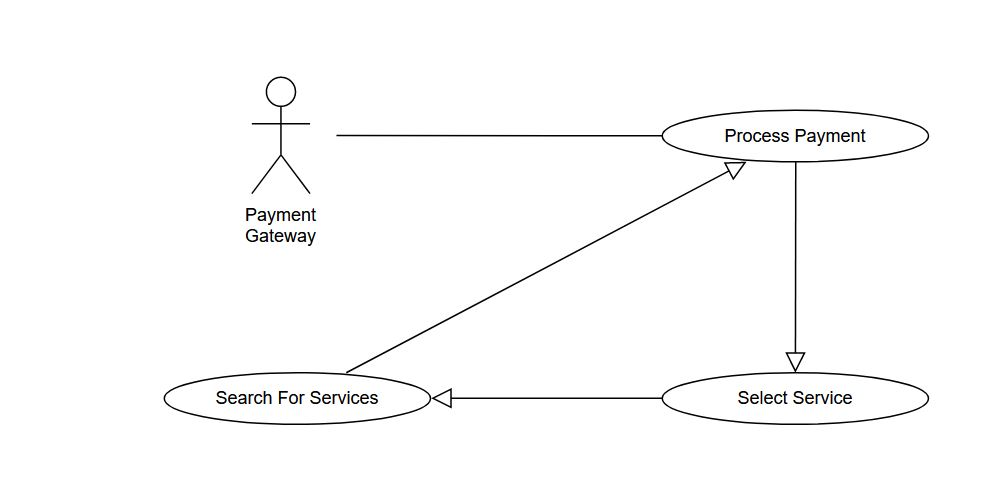actor: (251, 70, 314, 197)
association: (337, 121, 659, 147)
generalization: (346, 159, 747, 373), (432, 385, 663, 410), (784, 164, 806, 373)
text: (723, 123, 872, 147), (241, 206, 323, 247), (217, 390, 384, 409), (732, 385, 853, 411)
use_case: (660, 107, 930, 164), (661, 370, 931, 427), (164, 370, 431, 425)
